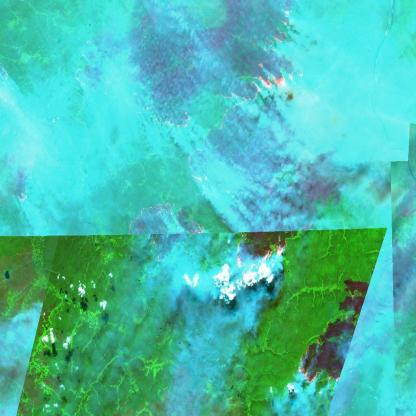fire: (234, 0, 310, 106), (124, 203, 207, 265), (234, 232, 289, 286), (297, 340, 342, 389), (12, 159, 32, 204)
